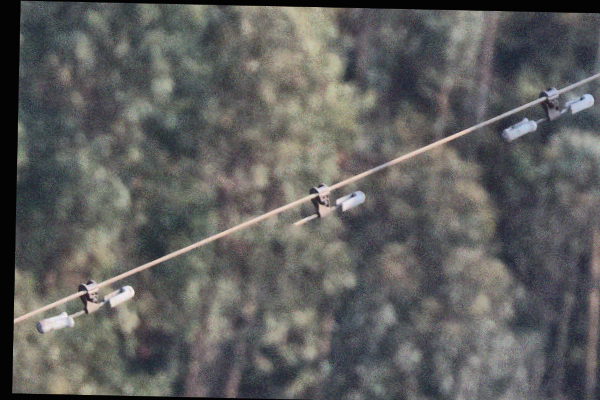damper: (498, 82, 596, 145), (34, 275, 136, 335)
damper_defect: (285, 181, 368, 230)
